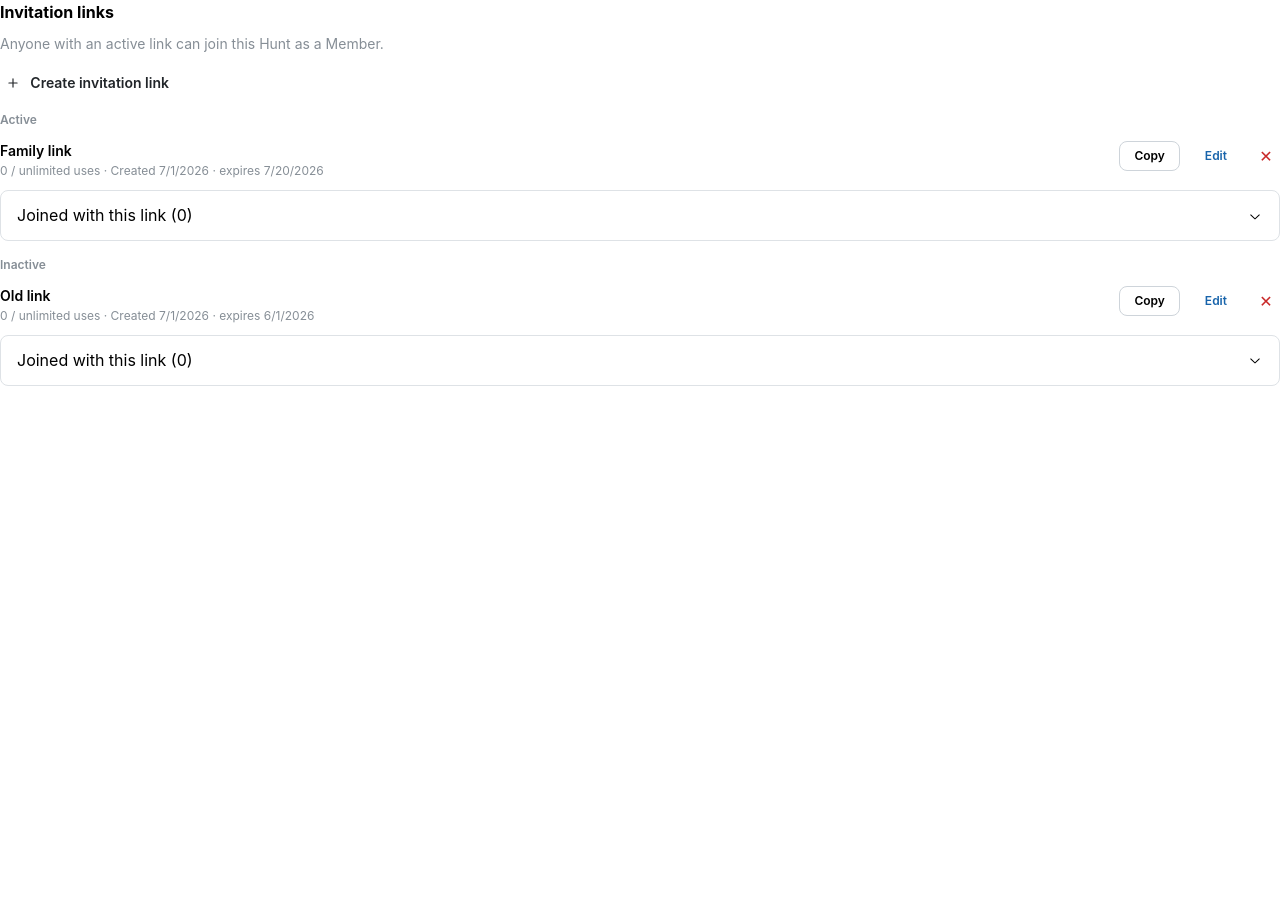
Test: InvitationLinksSection › defaults the name from active links only and creates with trimmed values
Click the button "Create invitation link". click: click(89, 83)
box: [0,70,178,96]
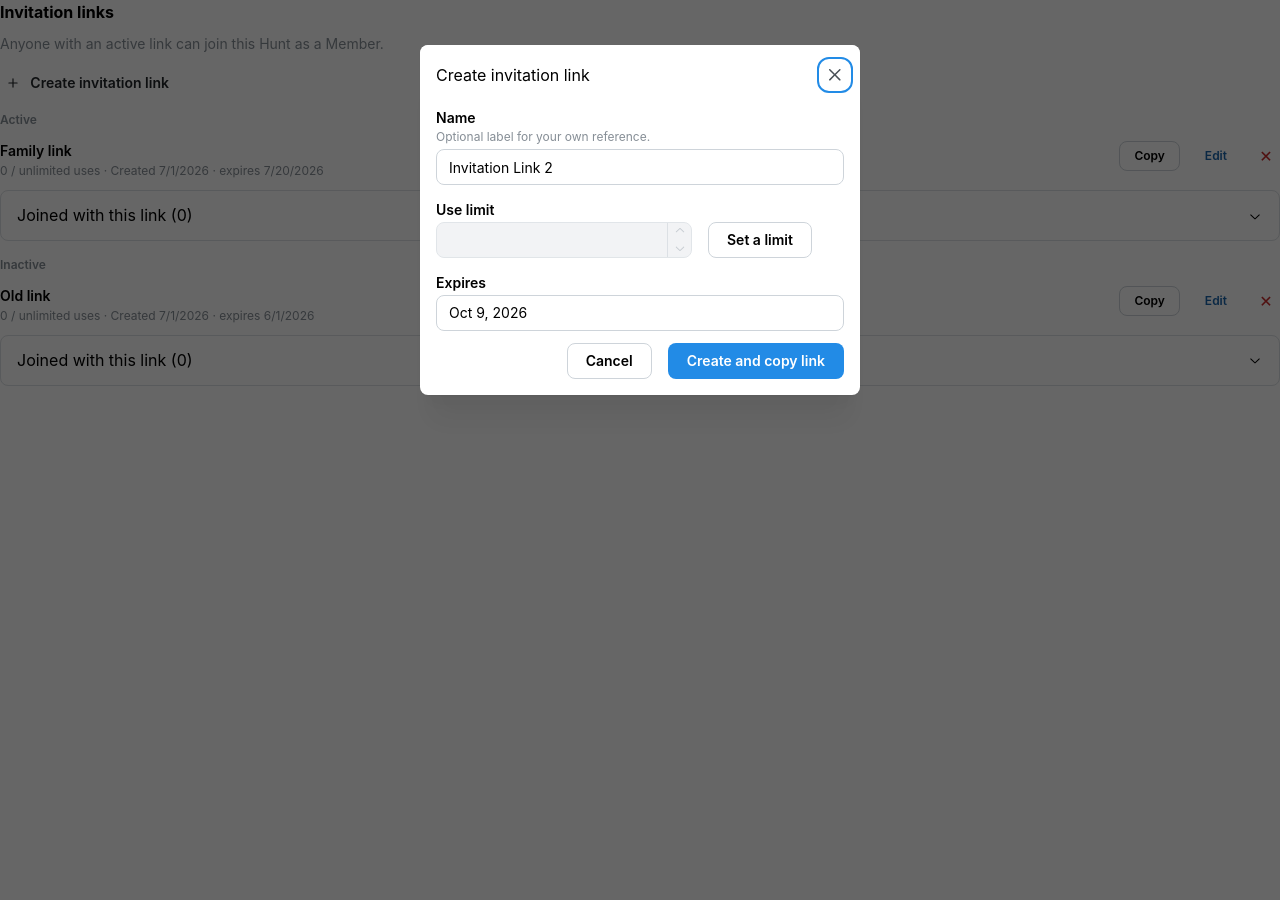
Now the field labelled "Name" holds "Invitation Link 2"
Replace the text in the field labelled "Name" with "  Weekend guests  ". click: (640, 167)
box: [436,149,844,185]
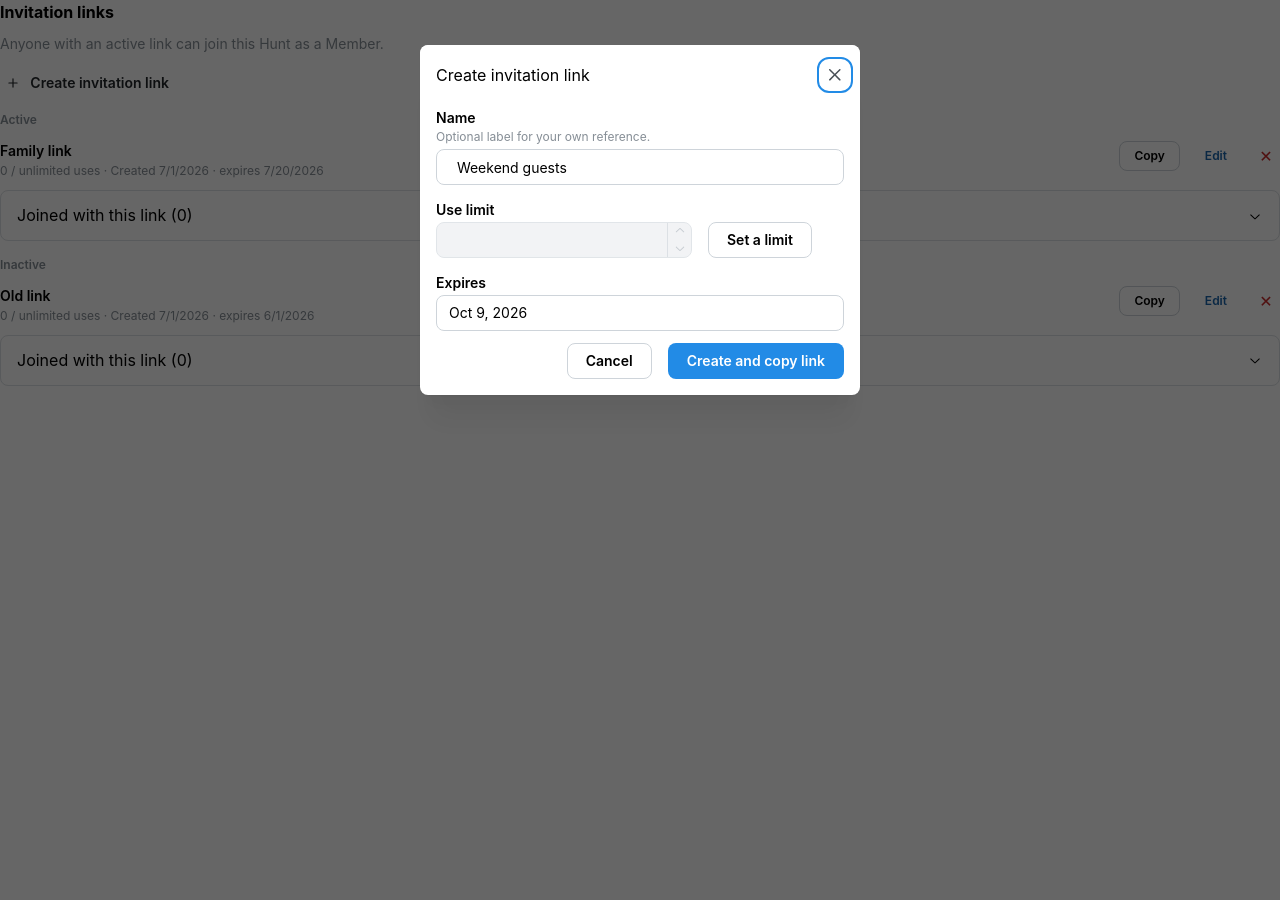
Click the button "Create and copy link". click: click(756, 361)
box: [668,343,844,379]
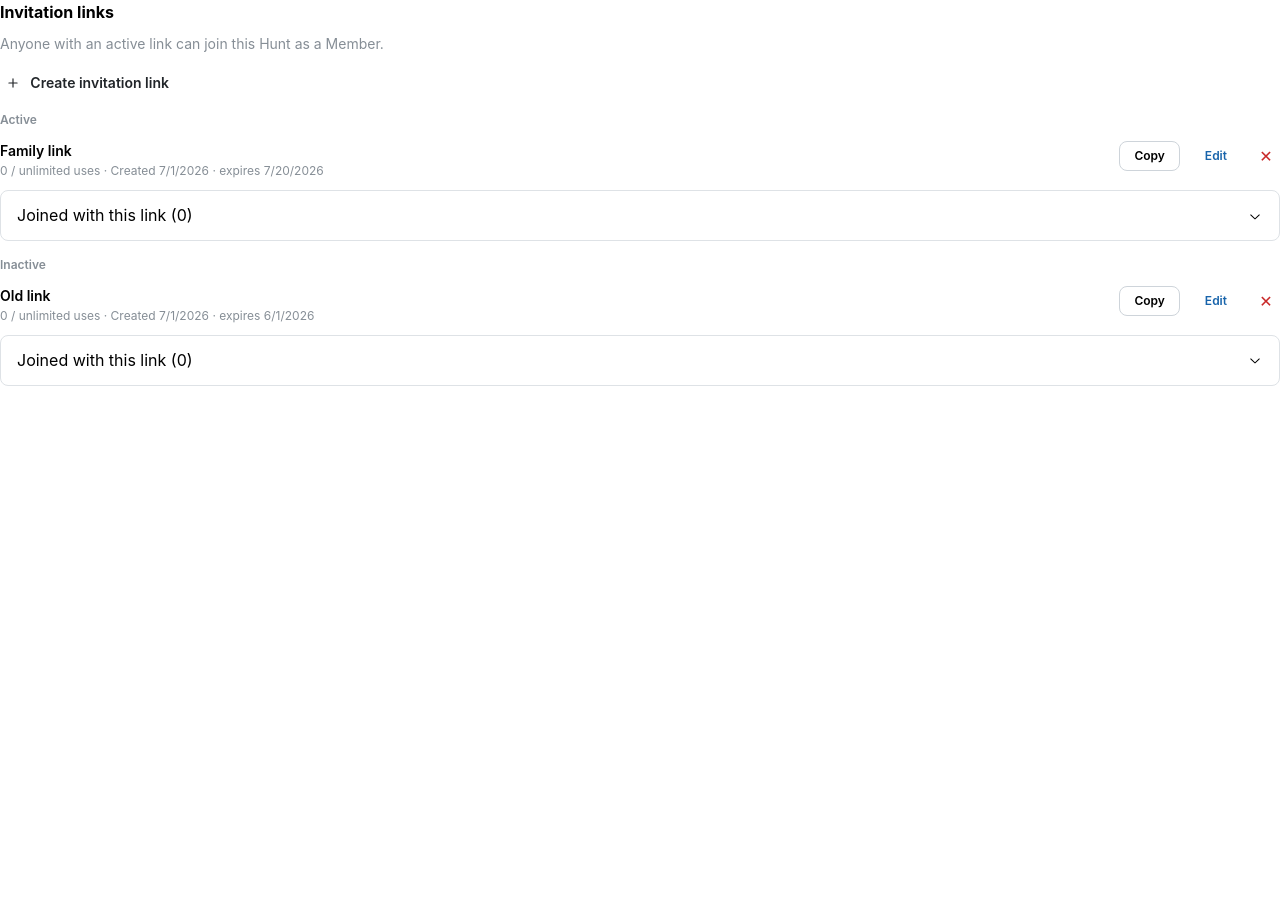
Now the dialog is gone
